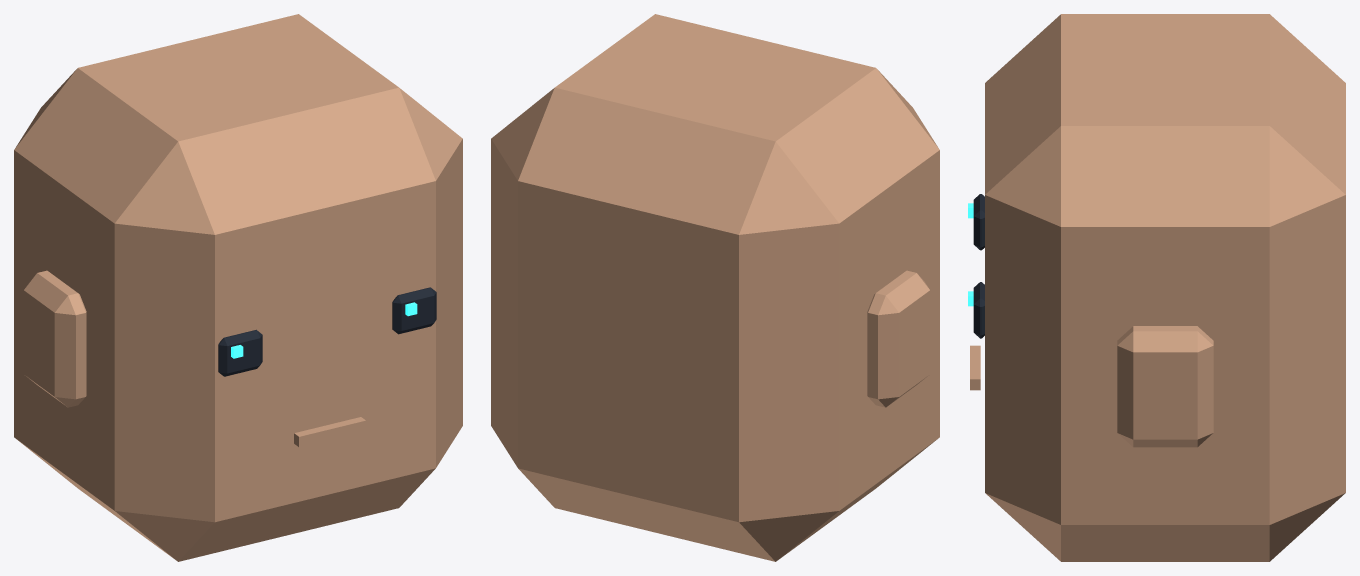
The model's file is SM_NPC_Head_002_Female.glb.
3 renders of one model, left to right at view 1: azimuth 30°, elevation 25°; view 2: azimuth 150°, elevation 25°; view 3: azimuth 270°, elevation 25°, orthographic. The views are drawn at different scales.
Visible parts, largest first — view 1: SM_NPC_Head_002_Female; view 2: SM_NPC_Head_002_Female; view 3: SM_NPC_Head_002_Female.
Boxes of the visible parts, x1,y1,x2,y2 form: SM_NPC_Head_002_Female: (14, 14, 462, 561); SM_NPC_Head_002_Female: (491, 14, 939, 561); SM_NPC_Head_002_Female: (968, 14, 1345, 561).
Bounding box in the file's own units: 0.595 × 0.6 × 0.471.
